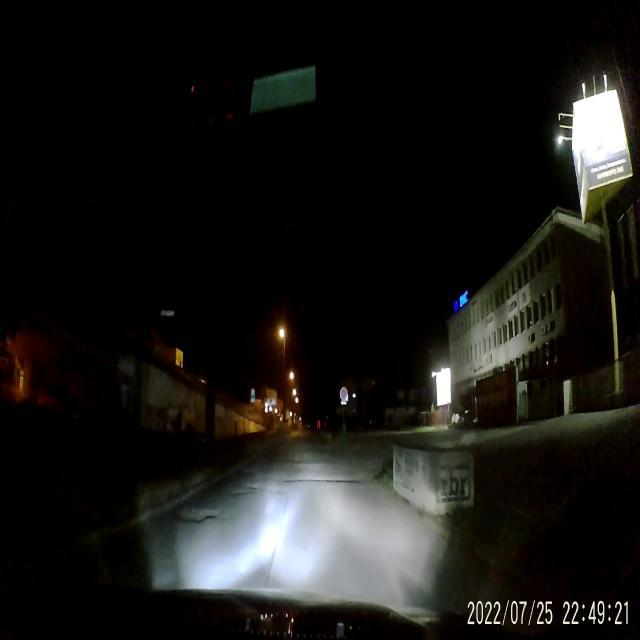Pothole: (180, 503, 220, 525), (227, 484, 255, 502)
